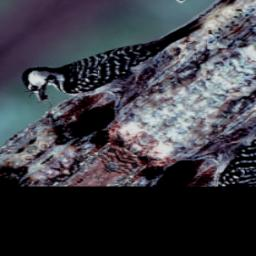Woodpecker: (6, 0, 214, 133)
